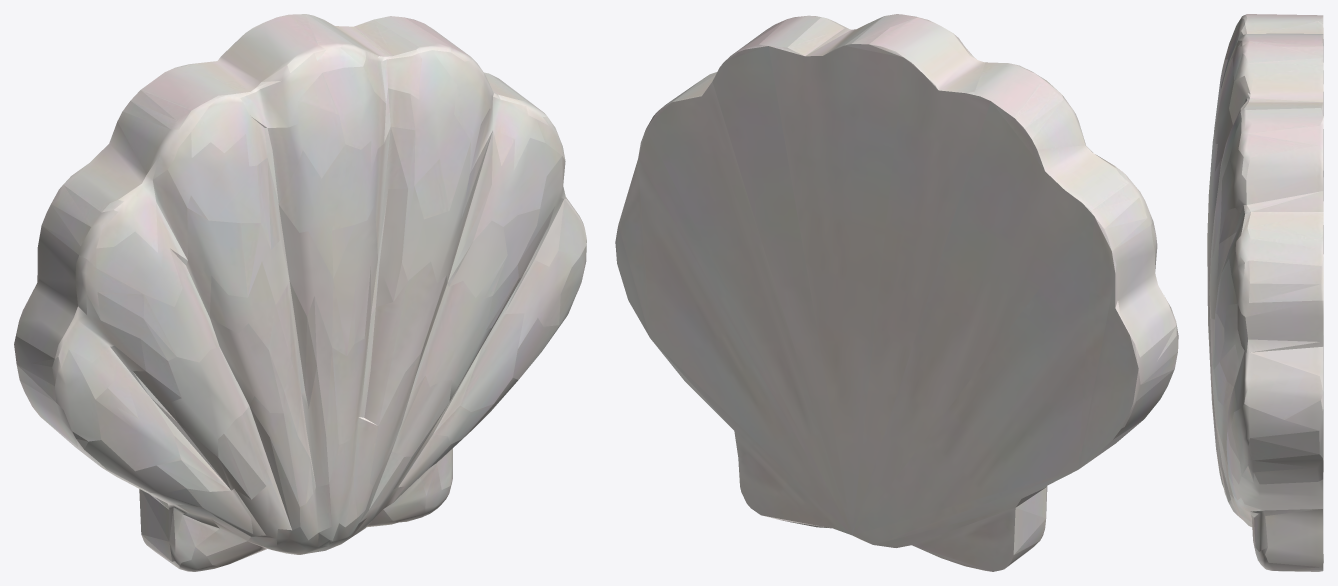
File: shell.glb
3 renders of one model, left to right at view 1: azimuth 30°, elevation 25°; view 2: azimuth 150°, elevation 25°; view 3: azimuth 270°, elevation 25°, orthographic. The views are drawn at different scales.
Bounding box in the file's own units: 1.9 × 1.73 × 0.3834.
Materials: 1 (1 with a texture image).
